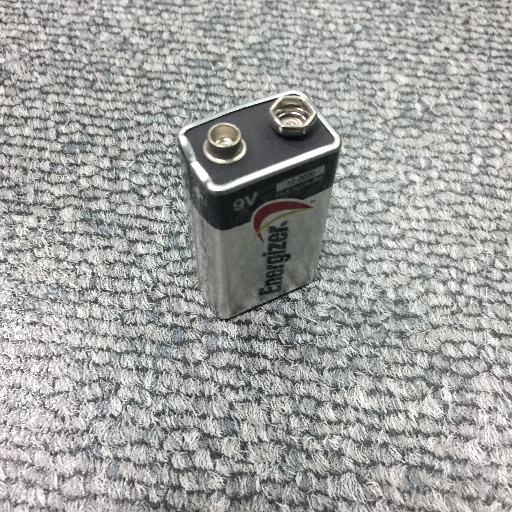Battery_3: (168, 77, 359, 339)
